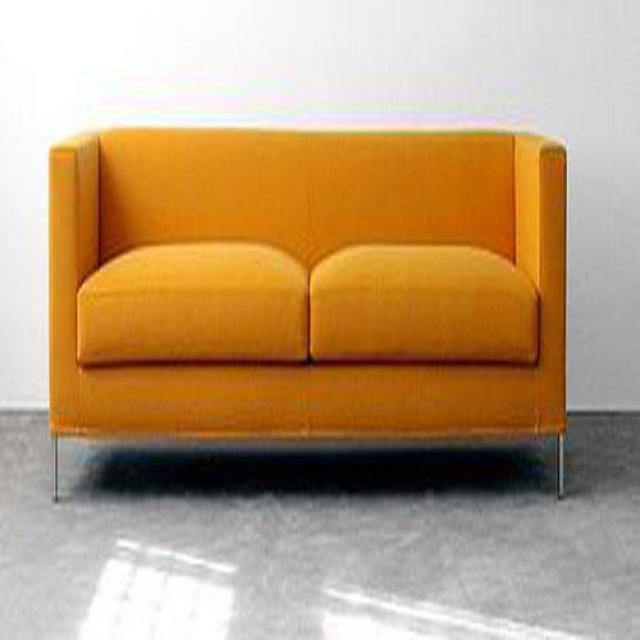sofa: (47, 125, 570, 506)
